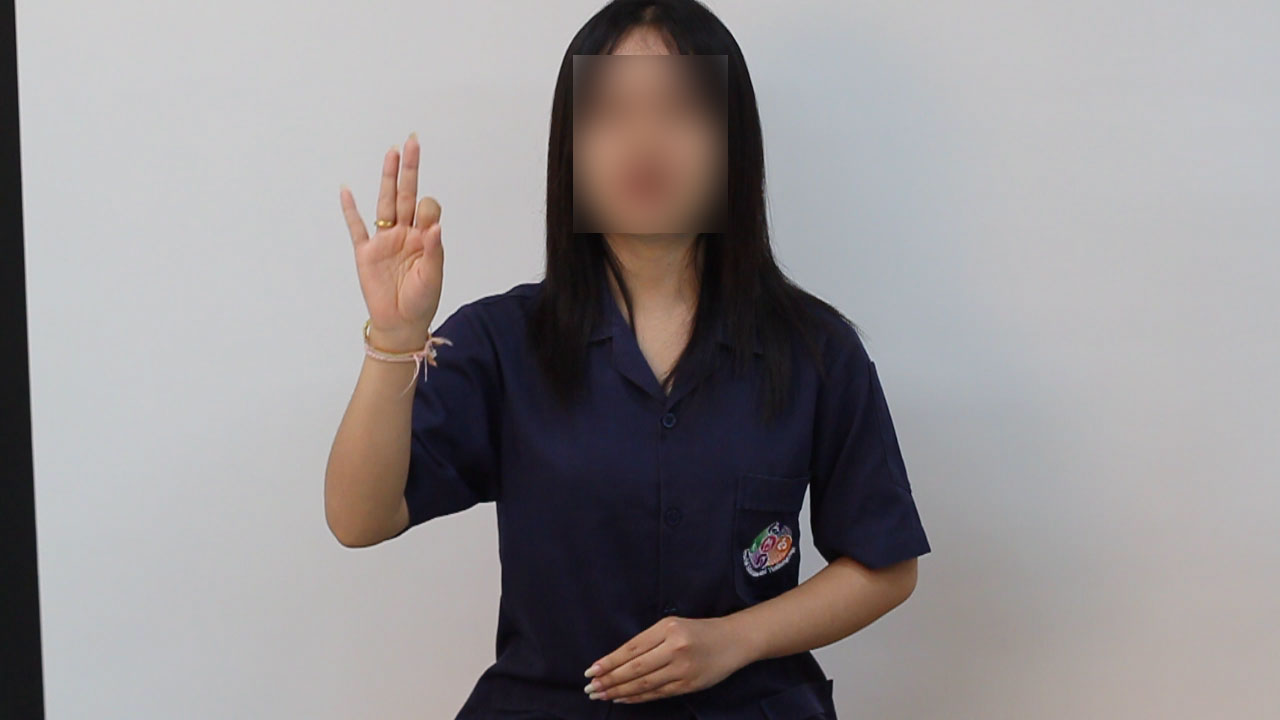for: (335, 121, 450, 350)
